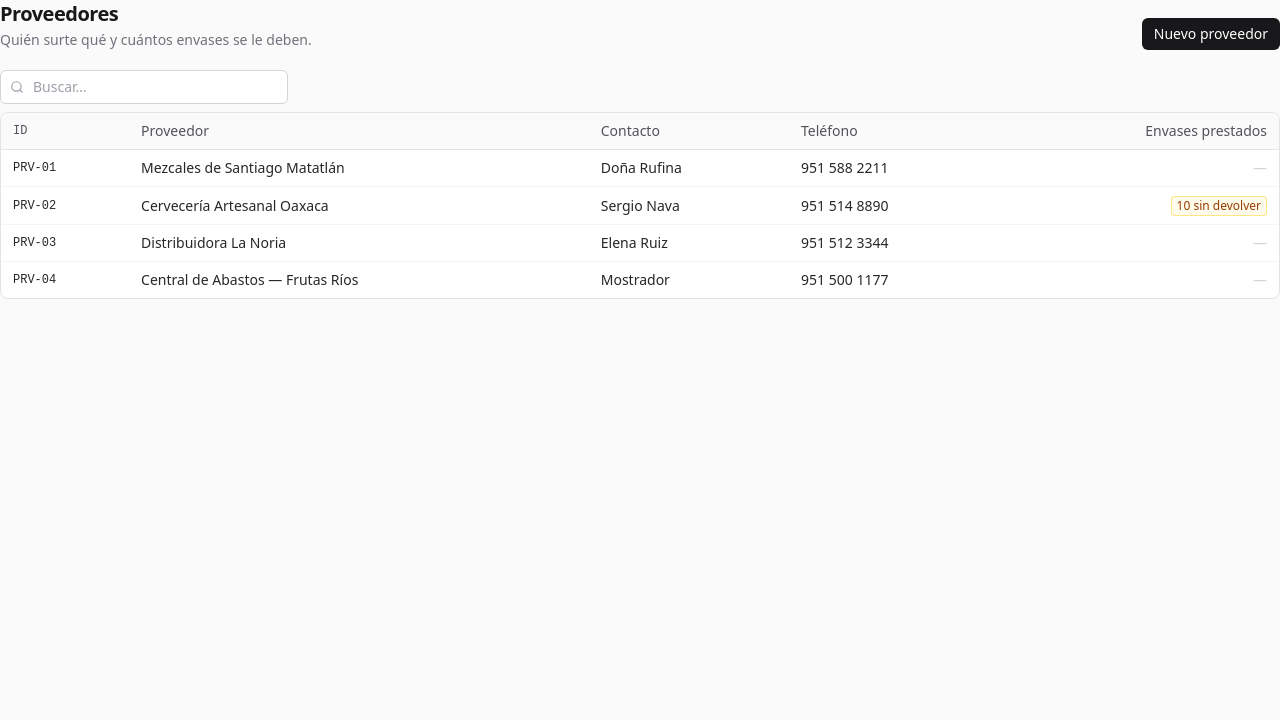
<ProveedoresPage> › no deja guardar un proveedor sin nombre
Click the button "Nuevo proveedor" at (1211, 34), box [1142, 18, 1279, 50]
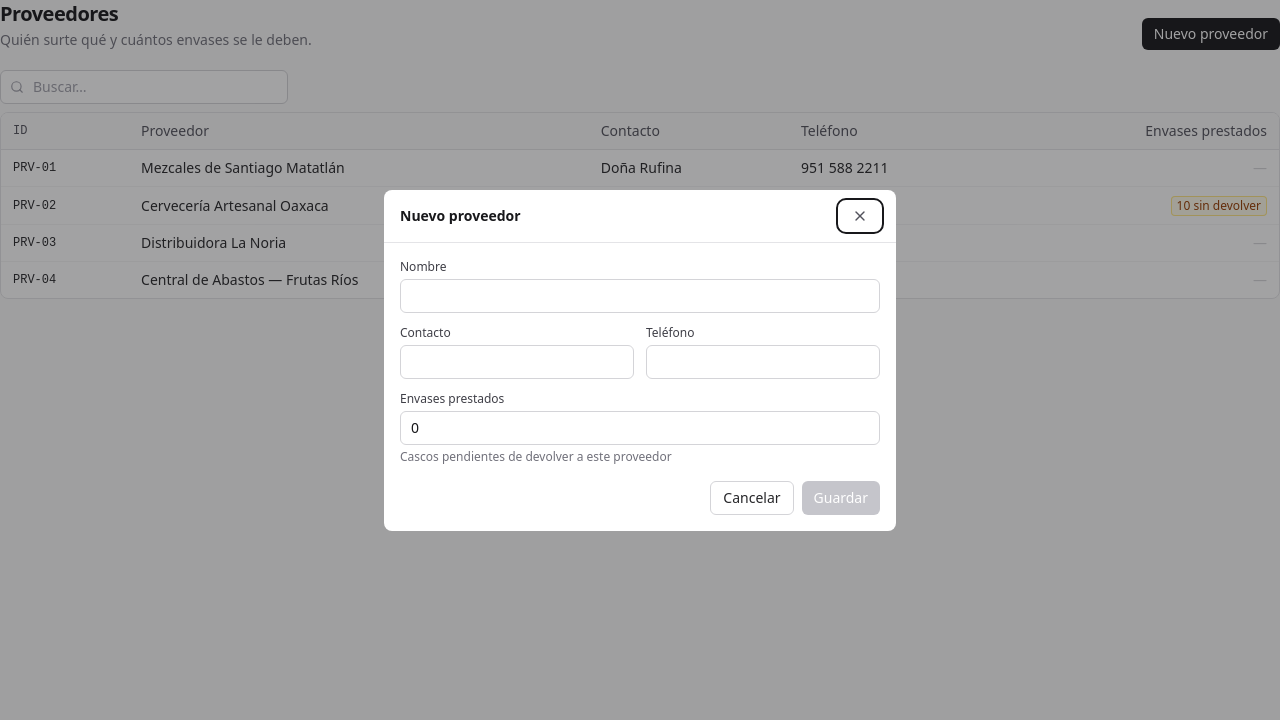
Now the button "Guardar" is disabled, box [802, 480, 880, 514]
